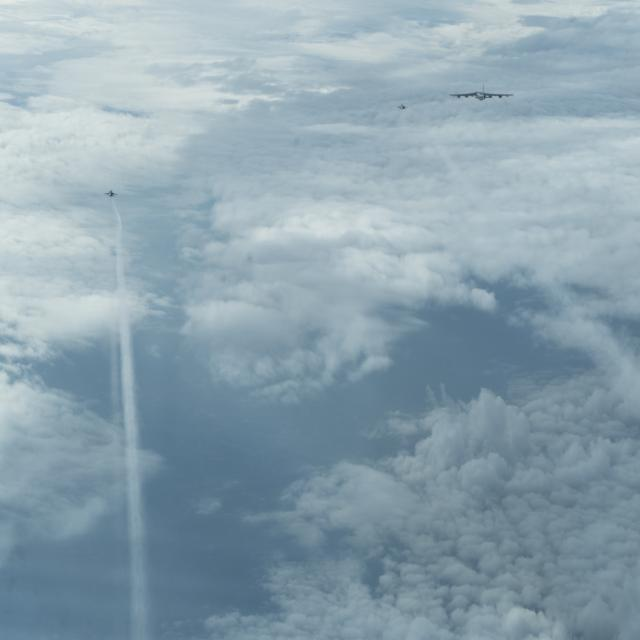MIL_Plane: (449, 64, 514, 82), (104, 189, 118, 197), (396, 102, 408, 110)
